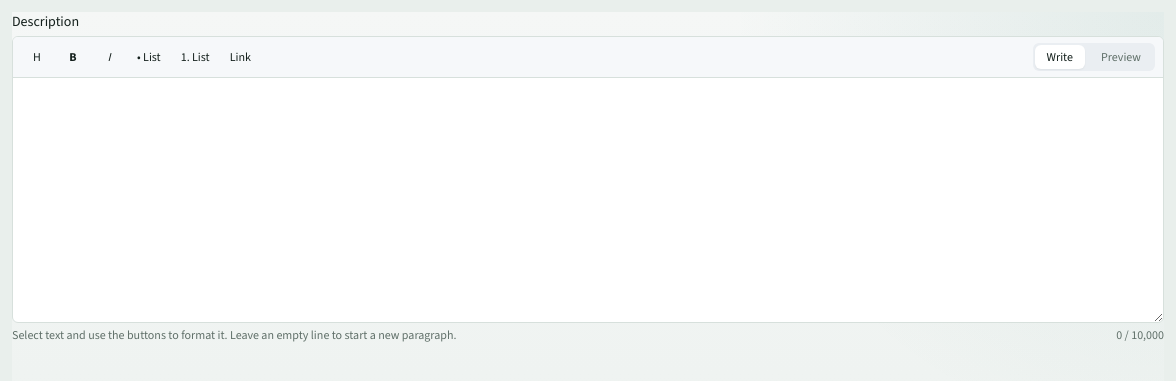
Test: DescriptionEditor › adds a bullet list and shows the character count
Click the button with aria-label "Bullet list". click: (149, 57)
box: [129,45,169,69]
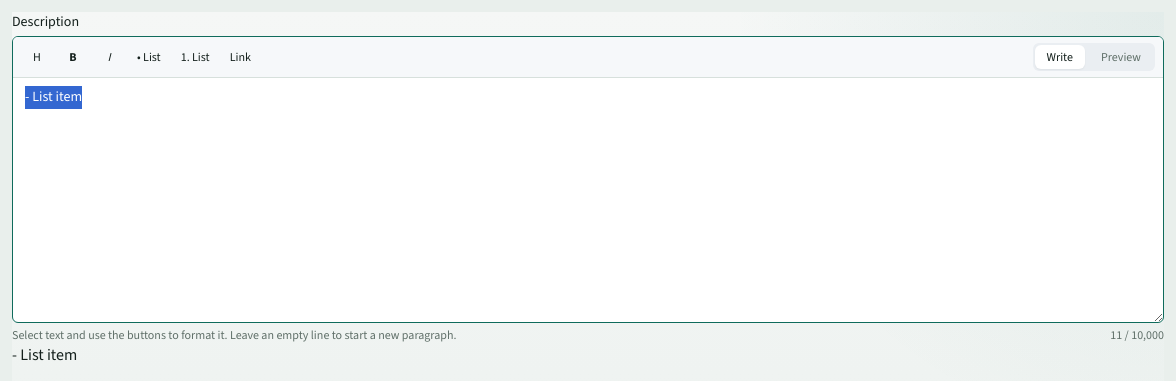
Now the text with test id "value" reads "- List item", box [12,344,77,364]
Now the text "11 / 10,000" is shown, box [1110,326,1164,342]
